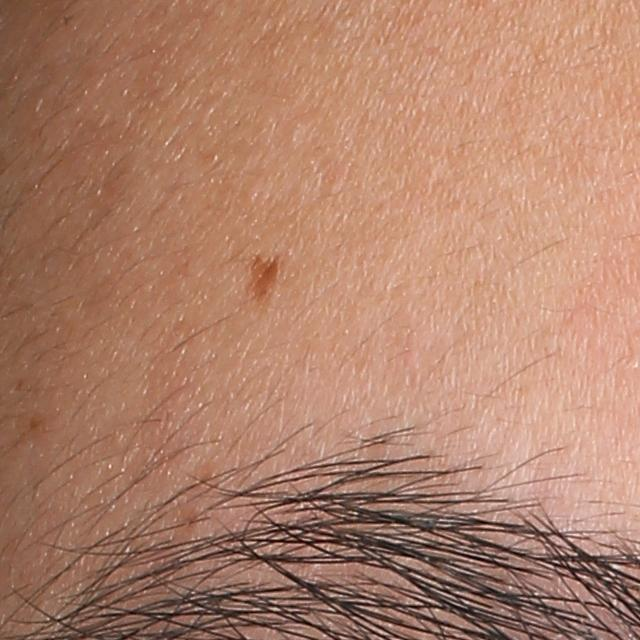nevus: (243, 253, 284, 306)
